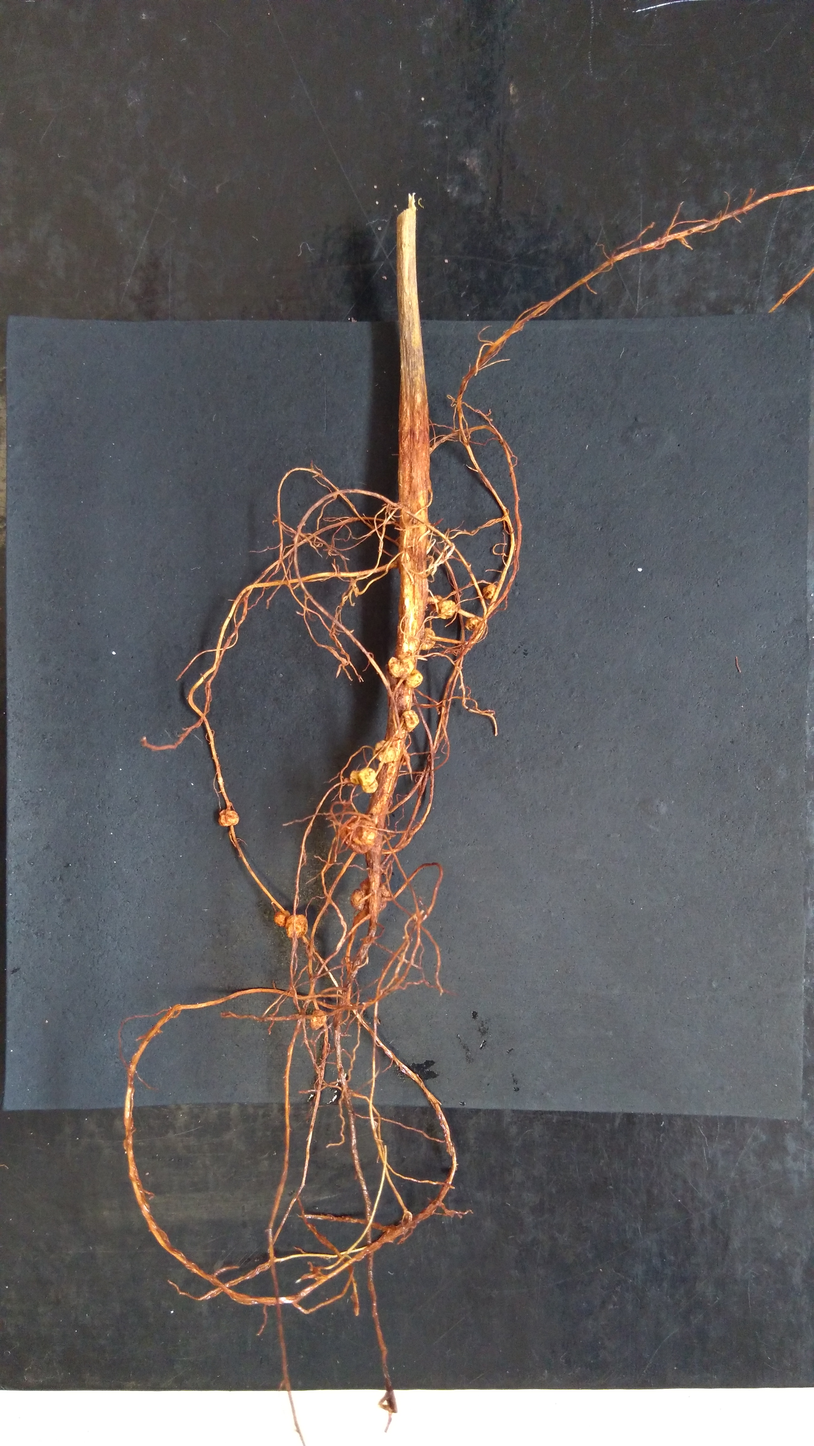nodule: (339, 817, 377, 855), (284, 913, 309, 939), (372, 739, 397, 764), (387, 656, 414, 678), (358, 766, 379, 794), (217, 808, 241, 829), (418, 627, 437, 652), (401, 709, 420, 733), (308, 1009, 327, 1032), (437, 599, 457, 620), (405, 668, 424, 690), (350, 887, 365, 912), (273, 909, 291, 928), (463, 616, 480, 632), (482, 583, 497, 600), (348, 769, 362, 786), (358, 877, 374, 891), (379, 883, 392, 899), (375, 899, 388, 913)
